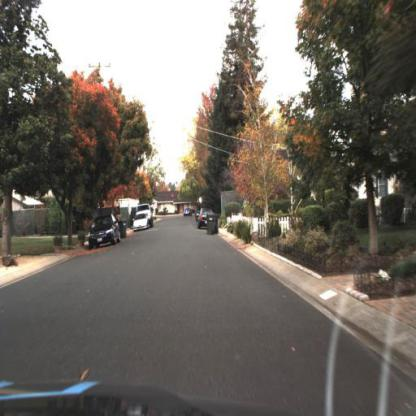car: (86, 209, 123, 253), (87, 214, 122, 250), (131, 214, 152, 234), (197, 208, 215, 230), (135, 203, 151, 219), (184, 208, 193, 218)
